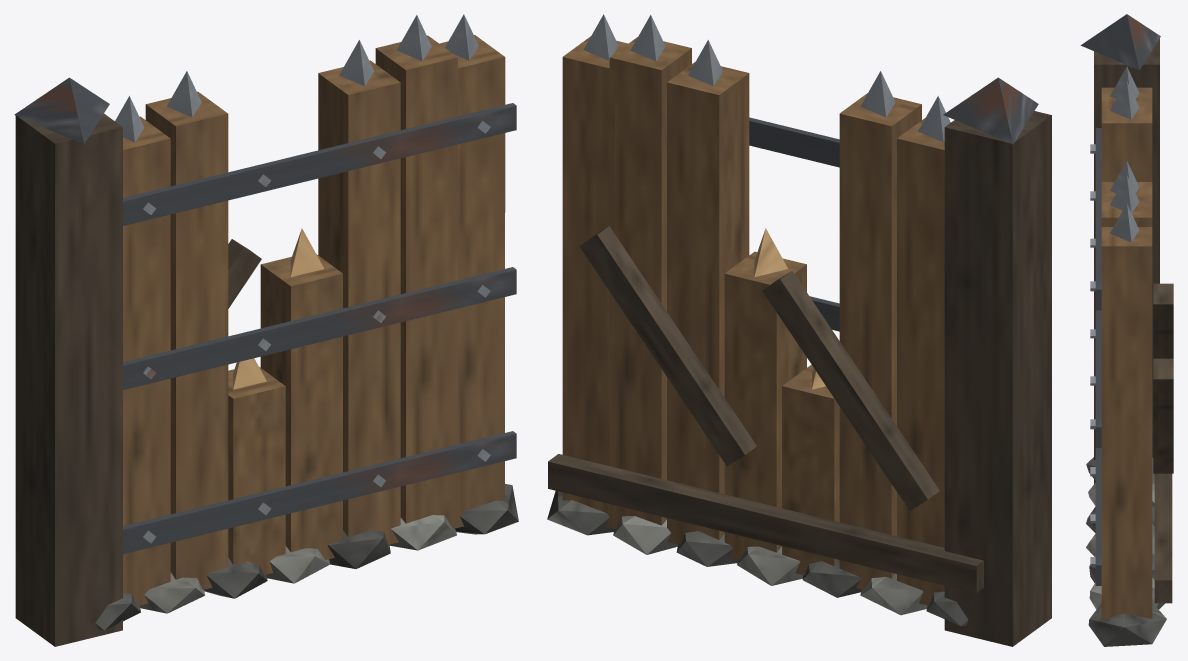
The model's file is SM_ReinforcedWall_Damaged_LOD1.fbx.
3 renders of one model, left to right at view 1: azimuth 30°, elevation 25°; view 2: azimuth 150°, elevation 25°; view 3: azimuth 270°, elevation 25°, orthographic. The views are drawn at different scales.
Visible parts, largest first — view 1: SM_ReinforcedWall_Damaged_LOD1; view 2: SM_ReinforcedWall_Damaged_LOD1; view 3: SM_ReinforcedWall_Damaged_LOD1.
Part boxes in pixels (box(x1,y1,x2,y2)): SM_ReinforcedWall_Damaged_LOD1: box(14, 14, 518, 646); SM_ReinforcedWall_Damaged_LOD1: box(547, 14, 1051, 646); SM_ReinforcedWall_Damaged_LOD1: box(1080, 14, 1173, 646).
Size of the model in its own units: 9.13 by 10.14 by 1.84.
1 material, 1 textured.
